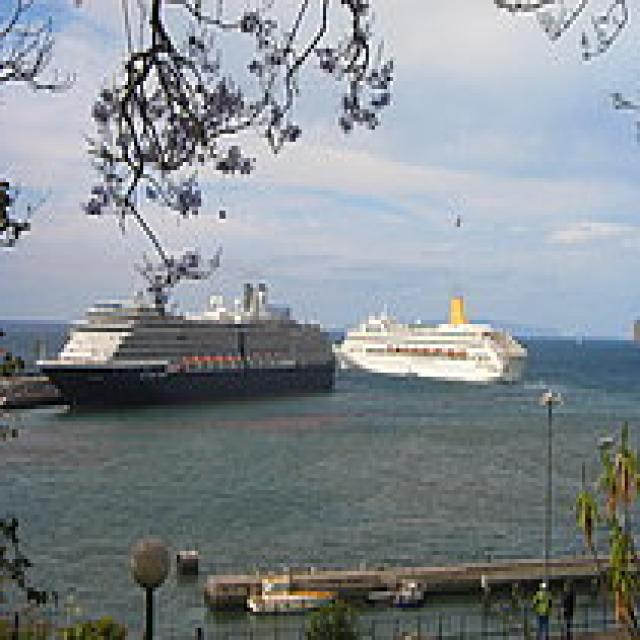Cruise: (34, 276, 342, 409), (332, 288, 534, 384)
